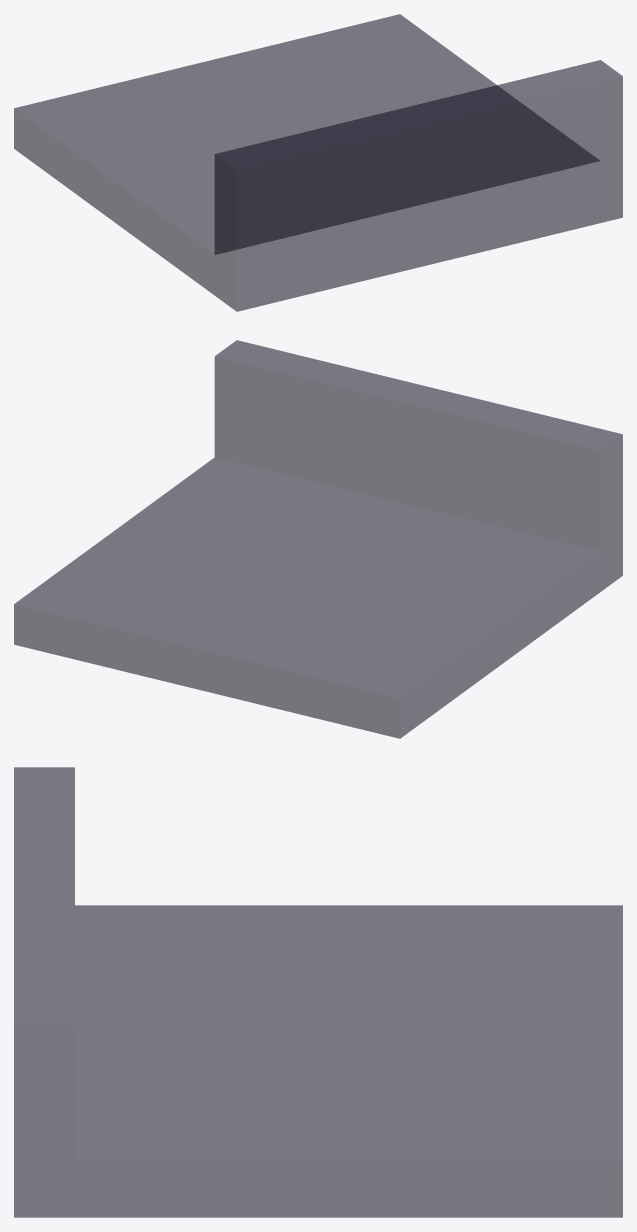
Rendered from GlassRoof_1Edge_small.glb.
3 views of the same model, one above another, from view 1: azimuth 30°, elevation 25°; view 2: azimuth 150°, elevation 25°; view 3: azimuth 270°, elevation 25° (orthographic). The views are drawn at different scales.
Visible parts, largest first — view 1: roof_flat_1Edges_small_glas; view 2: roof_flat_1Edges_small_glas; view 3: roof_flat_1Edges_small_glas.
Boxes of the visible parts, x1,y1,x2,y2 form: roof_flat_1Edges_small_glas: (14,14,622,311); roof_flat_1Edges_small_glas: (14,340,622,738); roof_flat_1Edges_small_glas: (14,767,622,1217).
Size of what is drawn, in the model's own units: 2 by 0.7 by 2.
1 material, 1 textured.
